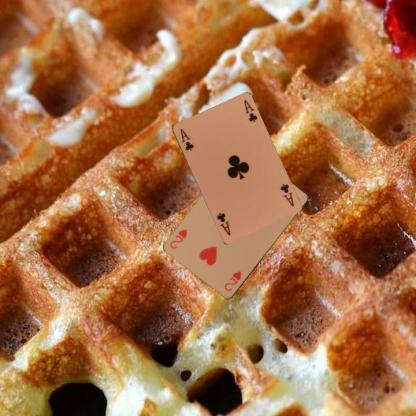2h: (221, 269, 244, 292)
Ac: (177, 125, 195, 152), (278, 181, 296, 207)
